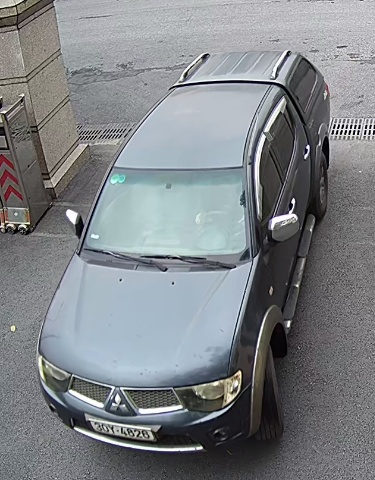vehicle plate: (84, 412, 158, 445)
